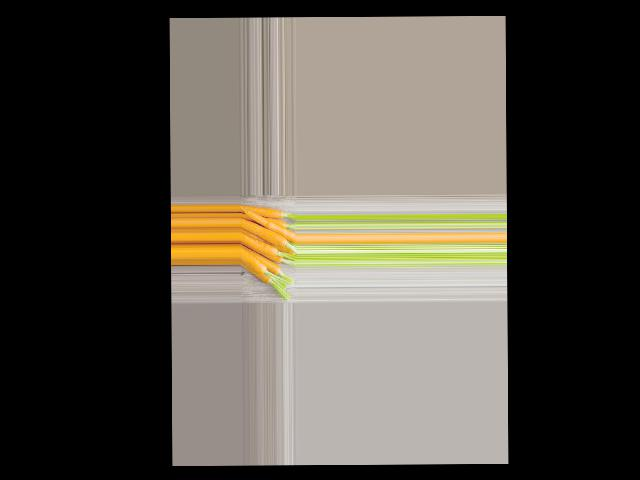carrot: (241, 251, 289, 275)
